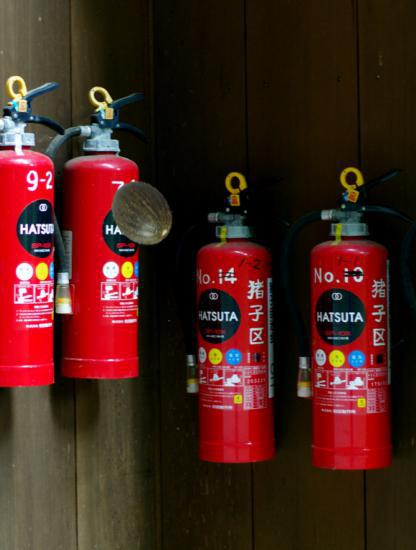Melon: (110, 180, 176, 246)
